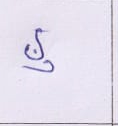u_matra: (22, 60, 57, 74)
